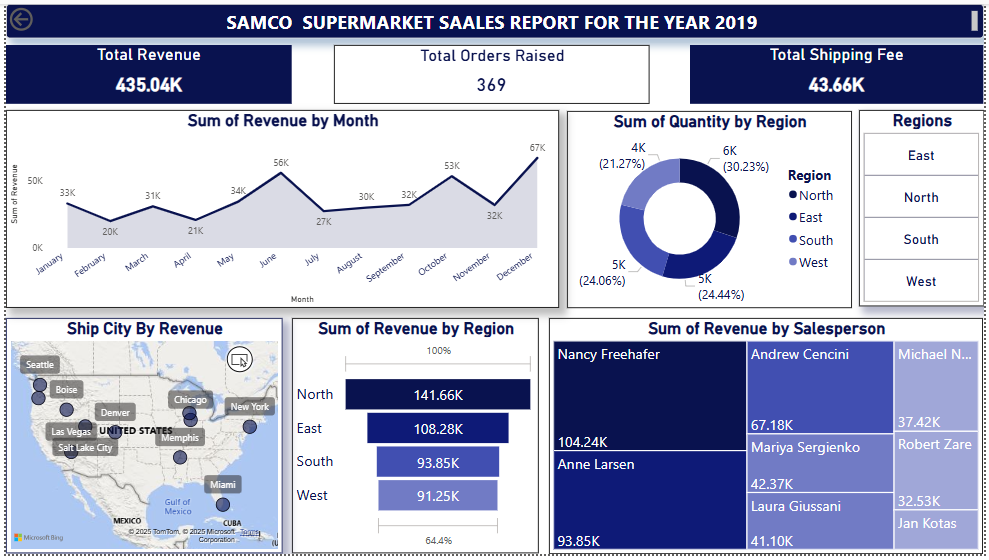

What the dashboard file says about the page in this screenshot:
{"tool":"powerbi","page":{"name":"Page 1","canvas":[1280,720],"ordinal":0},"visuals":[{"type":"textbox","box":[10.5,140.1,125.7,140.1],"z":0},{"type":"textbox","box":[0,0,1280.2,44.6],"z":1000},{"type":"advancedSlicerVisual","title":"Regions","fields":{"Values":["Data (2).Region"]},"box":[1116.2,139,163.8,257.4],"z":2000},{"type":"funnel","fields":{"Category":["Data (2).Region"],"Y":["Sum(Data (2).Revenue)"]},"box":[374.4,411.5,323.4,308.3],"z":3000},{"type":"card","title":"Total Revenue","fields":{"Values":["Sum(Data (2).Revenue)"]},"box":[0,53.7,374.4,77.1],"z":4000},{"type":"map","title":"Ship City By Revenue","fields":{"Category":["Data (2).City"]},"box":[0,411.5,362,308.3],"z":5000},{"type":"donutChart","fields":{"Category":["Data (2).Region"],"Y":["Sum(Data (2).Quantity)"]},"box":[734.4,140.1,373.1,257.9],"z":6000},{"type":"treemap","fields":{"Group":["Data (2).Salesperson"],"Values":["Sum(Data (2).Revenue)"]},"box":[710.8,411.1,568.1,308.9],"z":7000},{"type":"lineChart","fields":{"Category":["Data (2).Order Date.Variation.Date Hierarchy.Month"],"Y":["Sum(Data (2).Revenue)"]},"box":[0,139,724,258.8],"z":8000},{"type":"actionButton","box":[0,0,100,40],"z":9000},{"type":"card","title":"Total Shipping Fee ","fields":{"Values":["Sum(Data (2).Shipping Fee)"]},"box":[896,53.7,384,77.1],"z":10000},{"type":"card","title":"Total Orders Raised","fields":{"Values":["CountNonNull(Data (2).Order ID)"]},"box":[429.4,53.7,412.9,77.1],"z":10001}]}

Visuals, with their boxes in screenshot pixels (x1, y1, x2, y2), scaled from the page's 1280x720 canvas onto the 989x560 screenshot:
textbox: Rect(8, 109, 105, 218)
textbox: Rect(0, 0, 988, 35)
"Regions" advancedSlicerVisual: Rect(862, 108, 988, 308)
funnel - Data (2).Region x Sum(Data (2).Revenue): Rect(289, 320, 539, 559)
"Total Revenue" card: Rect(0, 42, 289, 102)
"Ship City By Revenue" map: Rect(0, 320, 280, 559)
donutChart - Data (2).Region x Sum(Data (2).Quantity): Rect(567, 109, 856, 310)
treemap - Data (2).Salesperson x Sum(Data (2).Revenue): Rect(549, 320, 988, 559)
lineChart - Data (2).Order Date.Variation.Date Hierarchy.Month x Sum(Data (2).Revenue): Rect(0, 108, 559, 309)
actionButton: Rect(0, 0, 77, 31)
"Total Shipping Fee " card: Rect(692, 42, 988, 102)
"Total Orders Raised" card: Rect(332, 42, 651, 102)
